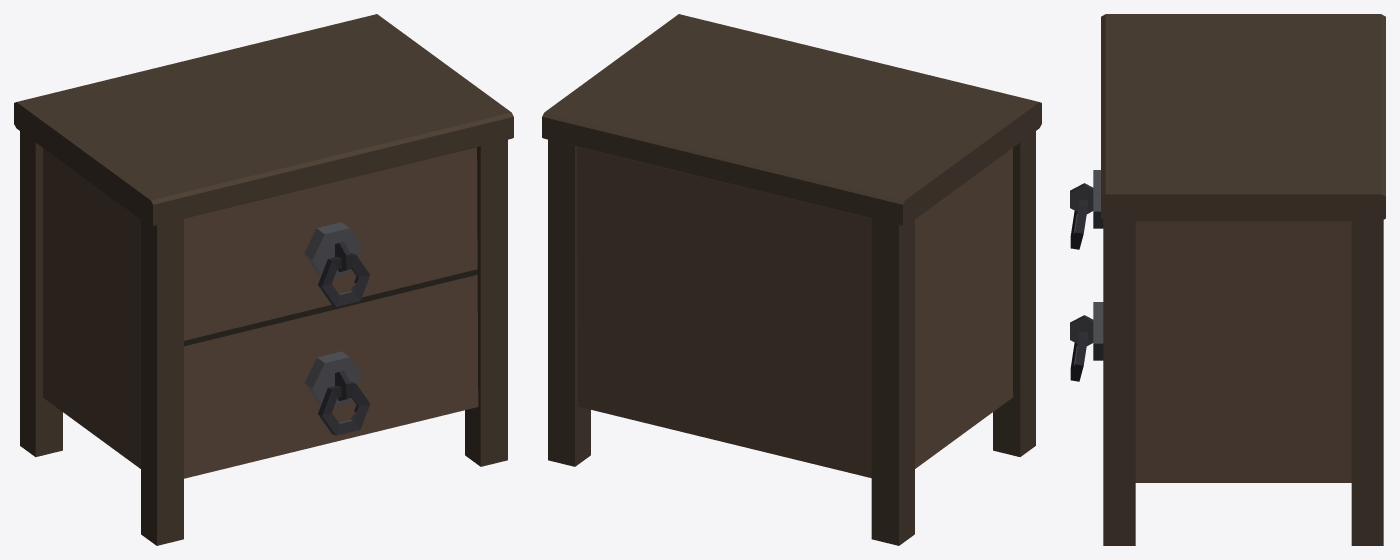
File: Cupboard_4.fbx
3 renders of one model, left to right at view 1: azimuth 30°, elevation 25°; view 2: azimuth 150°, elevation 25°; view 3: azimuth 270°, elevation 25°, orthographic. The views are drawn at different scales.
Parts seen in each view (by area): view 1: polySurface2960; view 2: polySurface2960; view 3: polySurface2960.
Boxes of the visible parts, <box> form: polySurface2960: <box>14,14,513,545</box>; polySurface2960: <box>542,14,1041,545</box>; polySurface2960: <box>1070,14,1385,545</box>.
Size of the model in its own units: 111 by 102 by 82.12.
